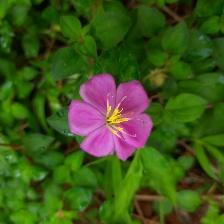malabar melastome: (68, 72, 155, 164)
